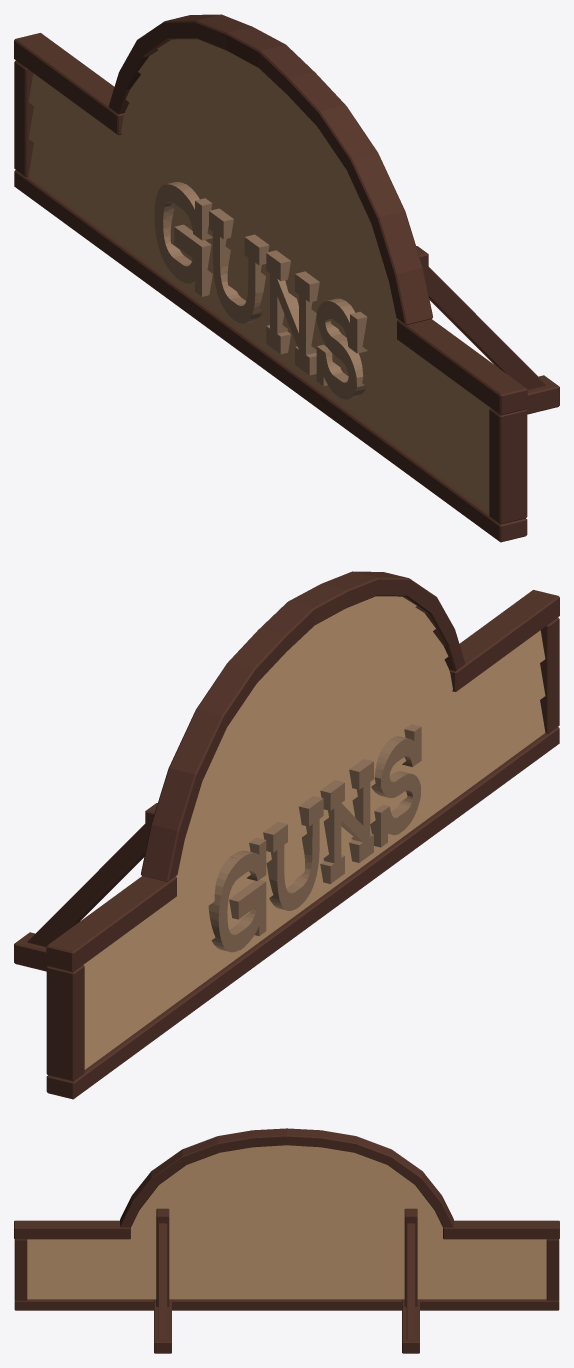
The model's file is gun-sign-b.glb.
The picture shows the model from 3 angles, top to bottom: view 1: azimuth 30°, elevation 25°; view 2: azimuth 150°, elevation 25°; view 3: azimuth 270°, elevation 25°; orthographic projection. The views are drawn at different scales.
Visible parts, largest first — view 1: Gun Sign B (×3); view 2: Gun Sign B (×3); view 3: Gun Sign B (×2).
Part boxes in pixels (x1,y1,x2,y2): Gun Sign B (×3): [14, 14, 559, 542]; Gun Sign B (×3): [14, 571, 559, 1099]; Gun Sign B (×2): [14, 1128, 559, 1353].
Bounding box in the file's own units: 1.46 × 2.35 × 6.6.
